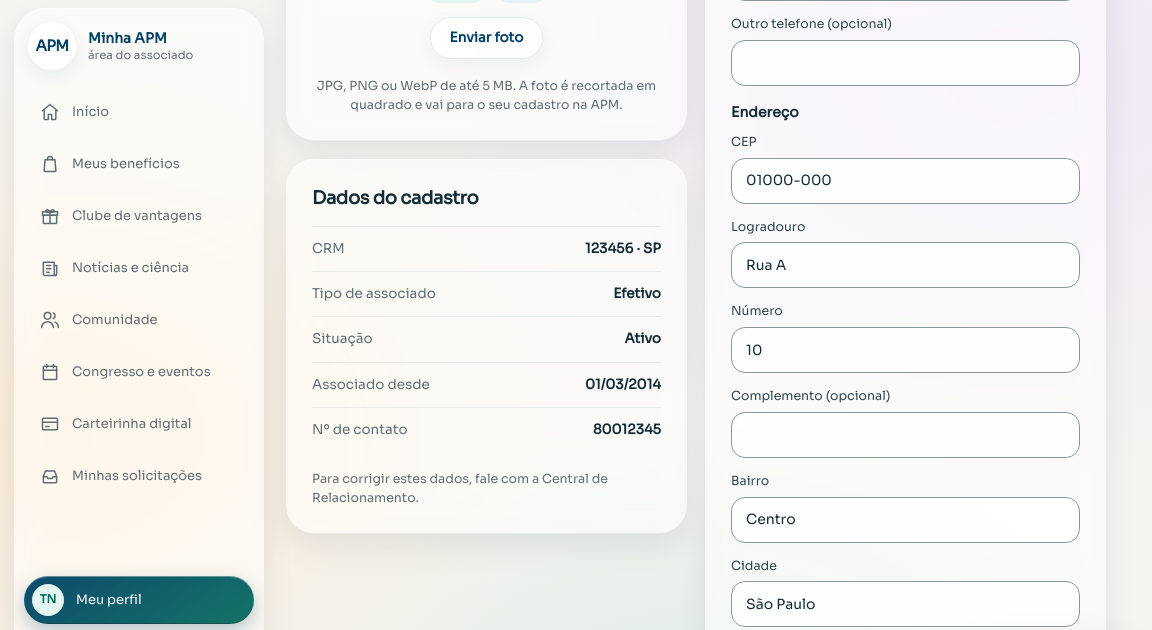
Meu perfil (RF-PE) › 409 do CRM no endereço recarrega o perfil e esconde o formulário
(page scrolled)
Replace the text in the field labelled "Número" with "20" at (906, 350), box [731, 327, 1080, 373]
(page scrolled)
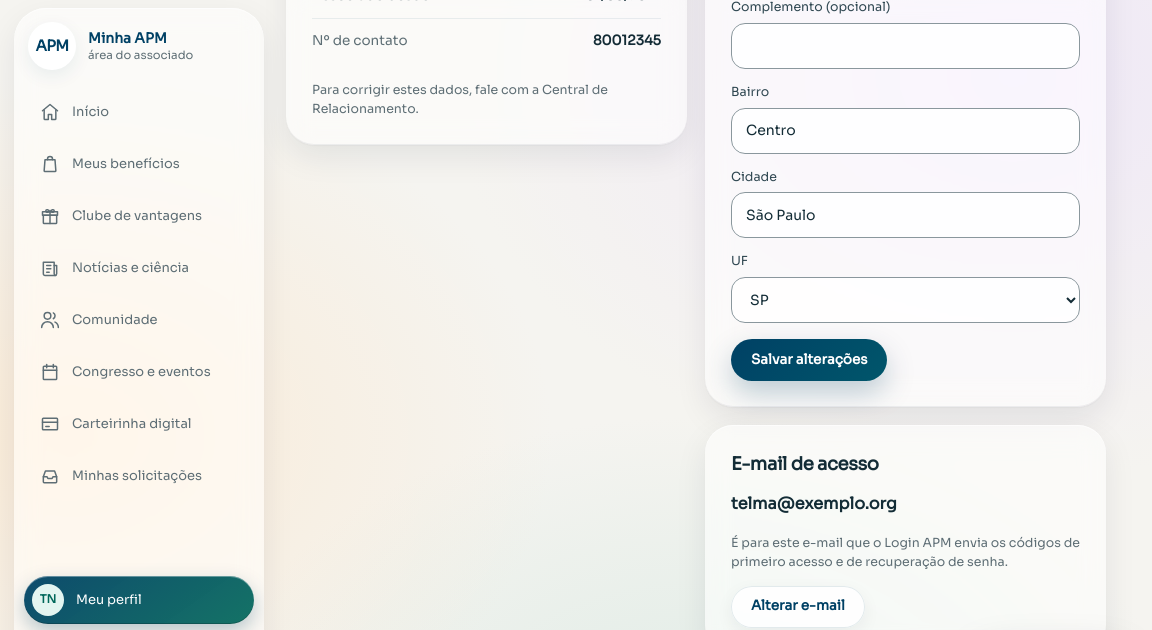
Click the button "Salvar alterações" at (809, 360), box [731, 339, 888, 381]
(page scrolled)
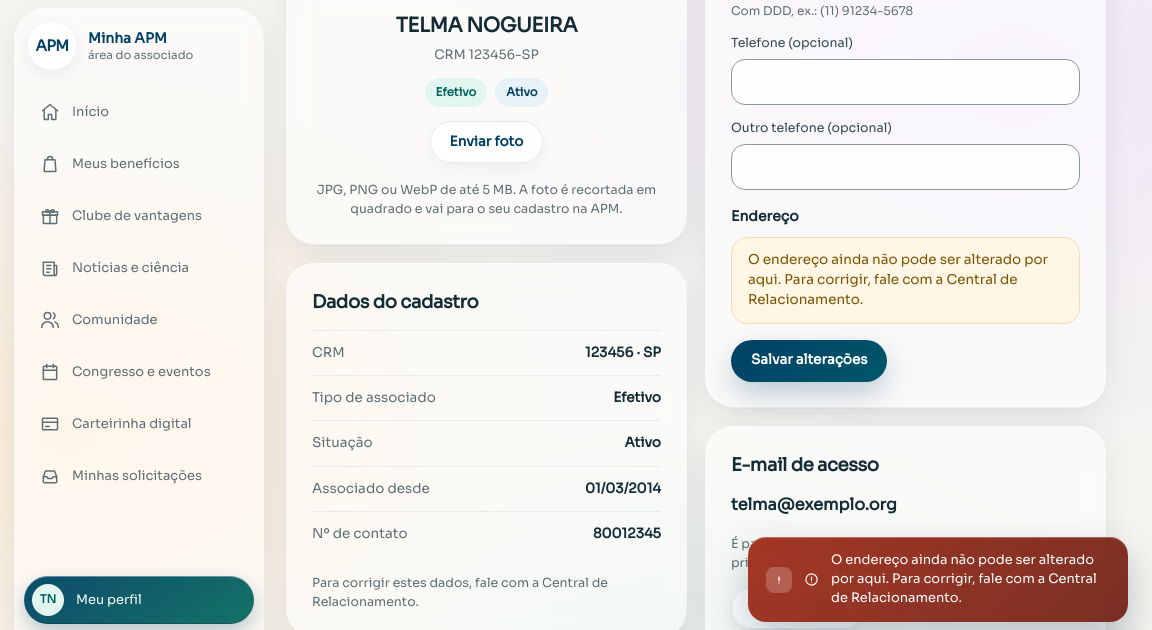
Now the text "O endereço ainda não pode ser alterado por aqui" below "Outro telefone (opcional)" is shown, box [748, 251, 1048, 308]
